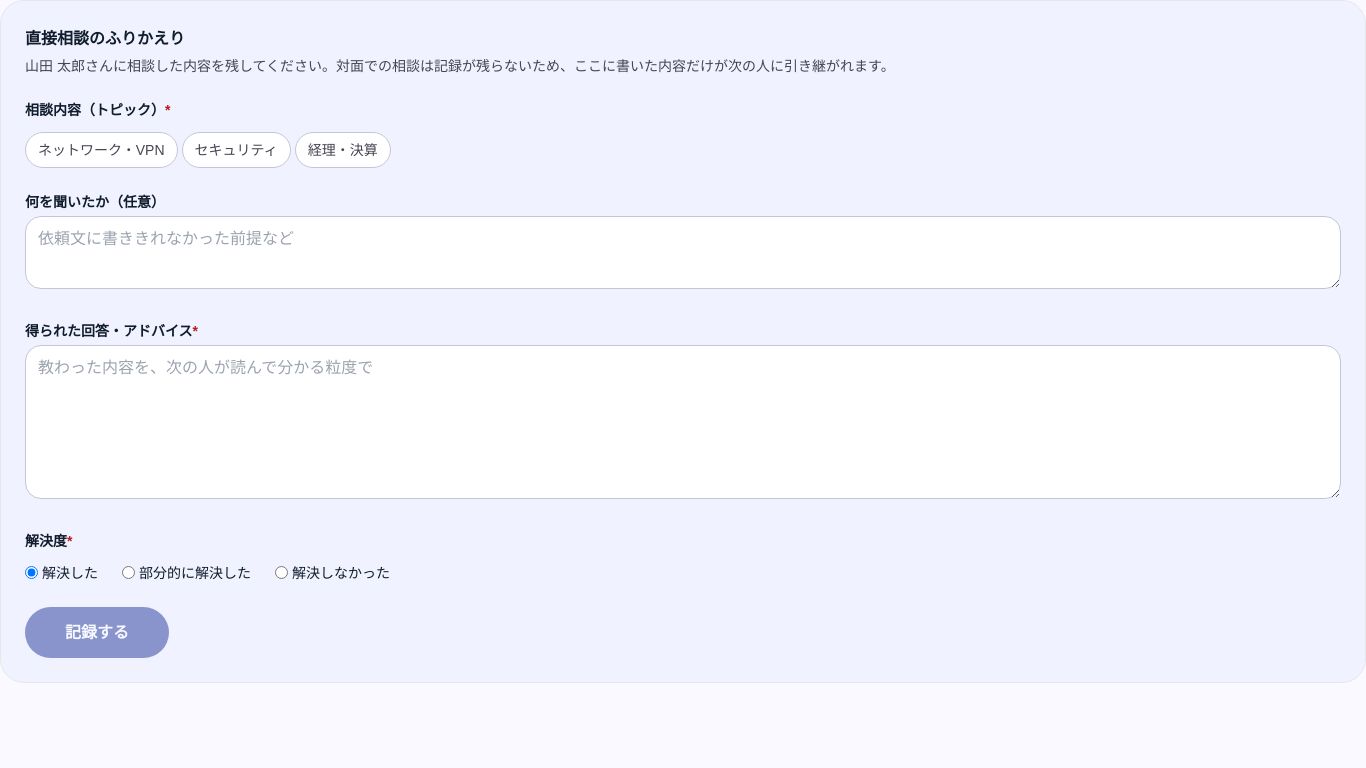
Test case: RetrospectiveForm › surfaces a failure and keeps the entered text so nothing is lost
Click the button "ネットワーク・VPN". click: (101, 150)
box: x1=25 y1=132 x2=178 y2=168
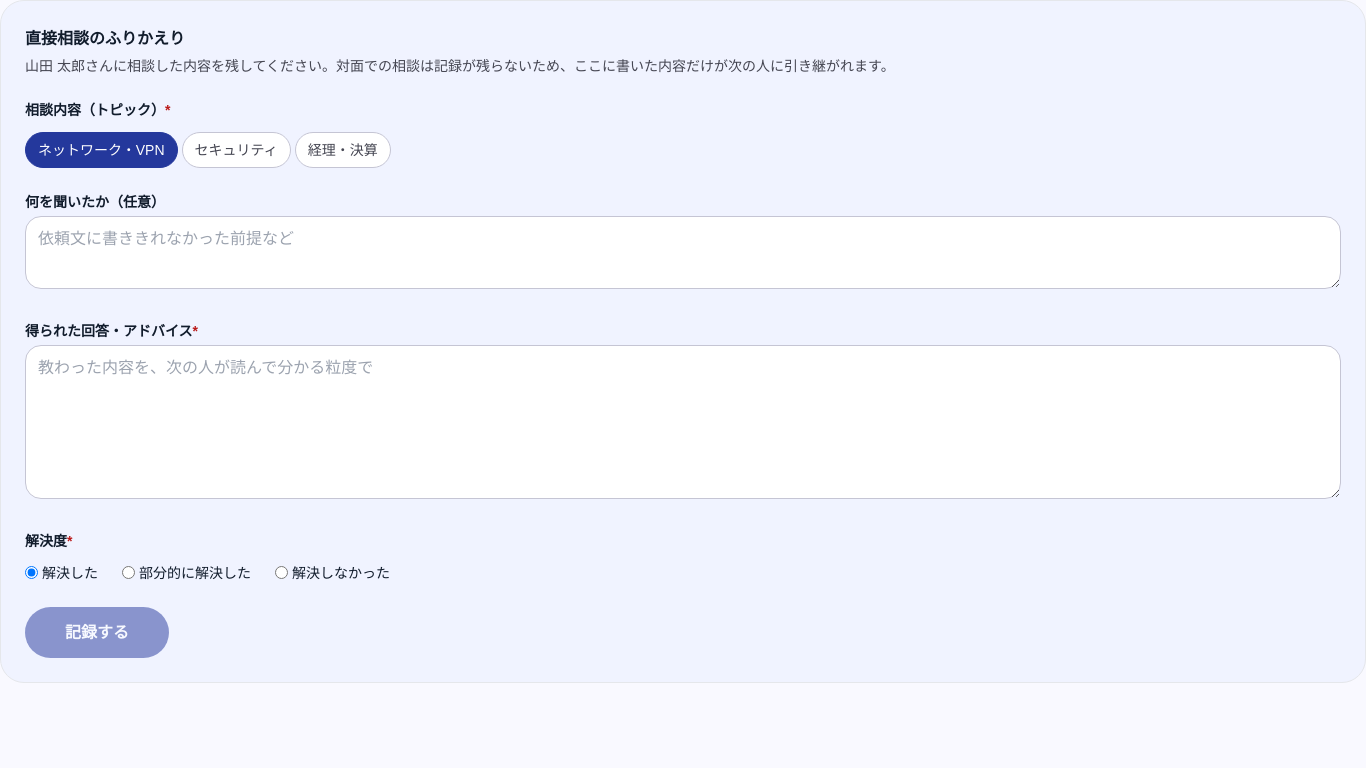
Type "MTU を下げると直る、という話でした" into the text box labelled "得られた回答・アドバイス*". click: (683, 422)
box: x1=25 y1=345 x2=1341 y2=499
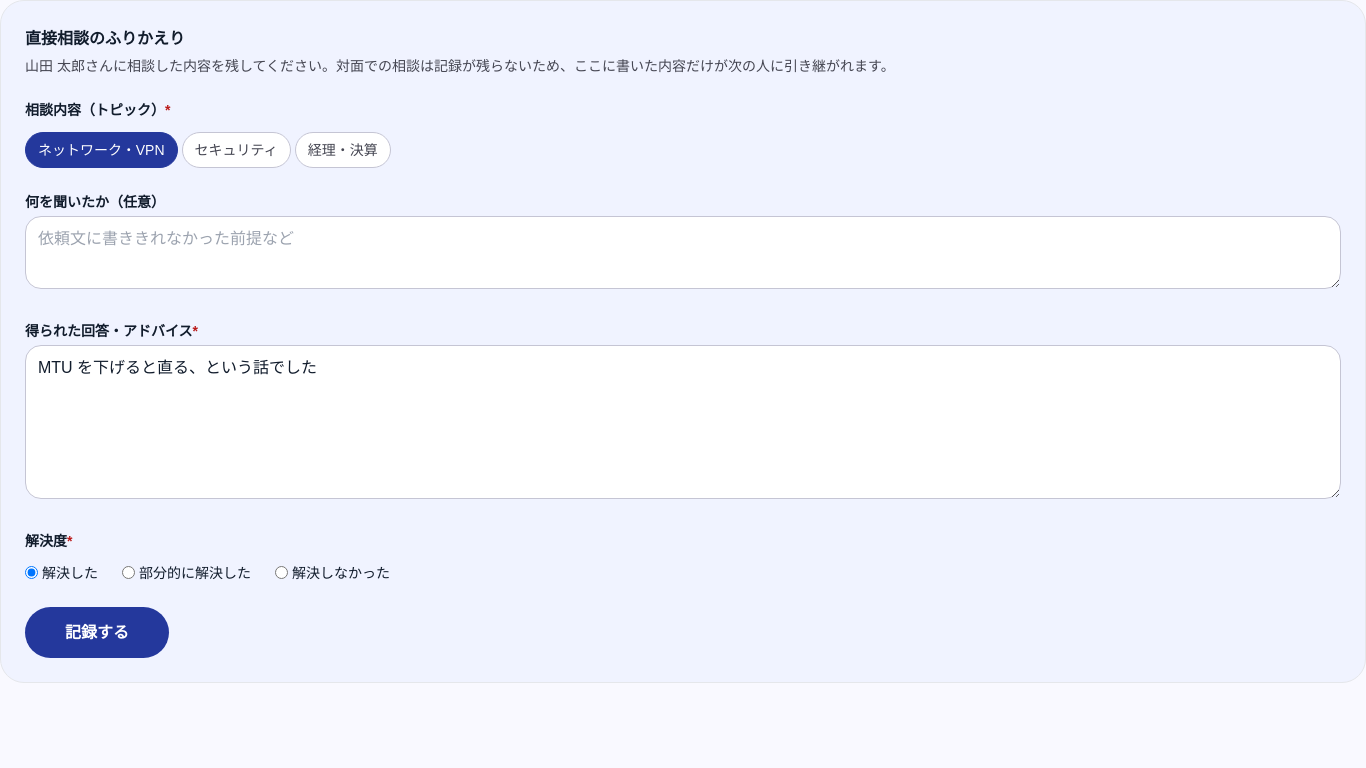
Click the button "記録する". click: (97, 632)
box: x1=25 y1=607 x2=169 y2=658
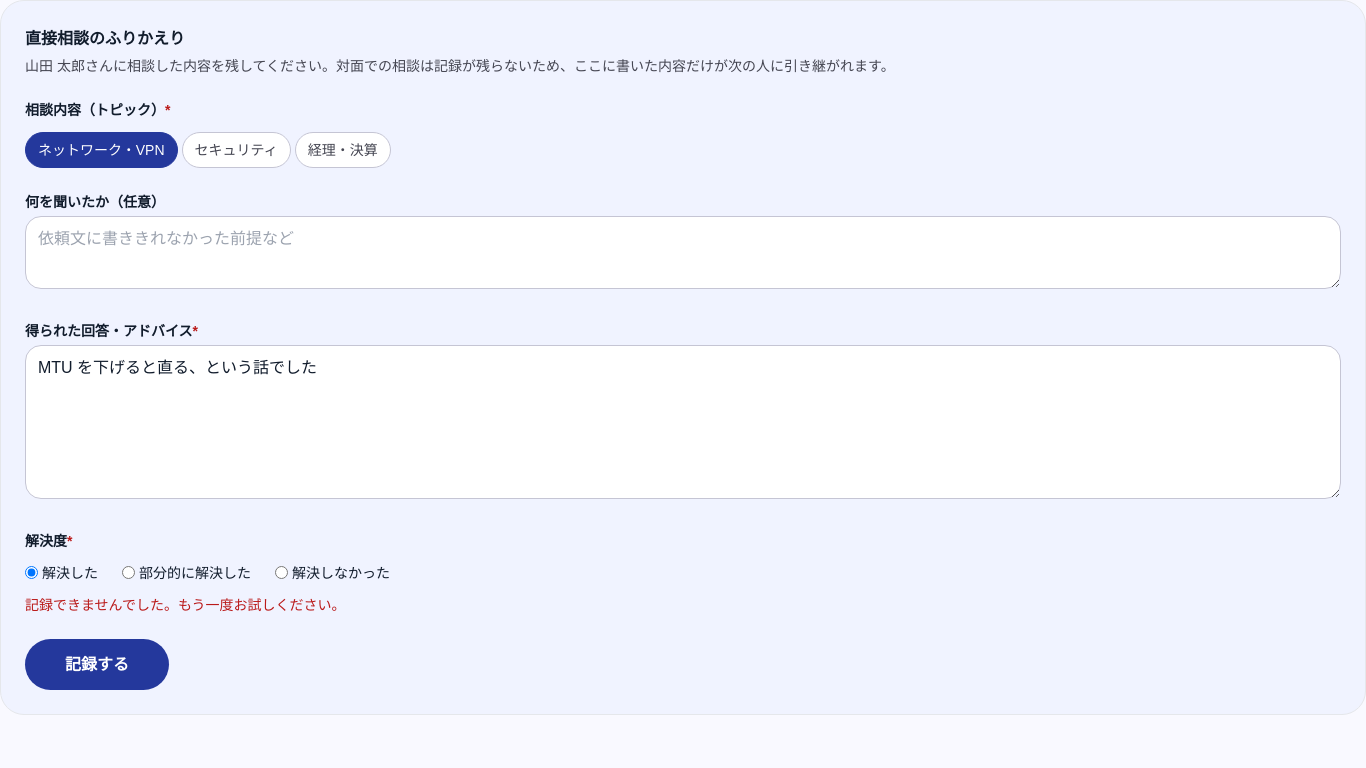
Result: the button "記録する" is enabled at x1=25 y1=639 x2=169 y2=690
Result: the message "記録できませんでした。もう一度お試しください。" is shown at x1=25 y1=597 x2=346 y2=613
